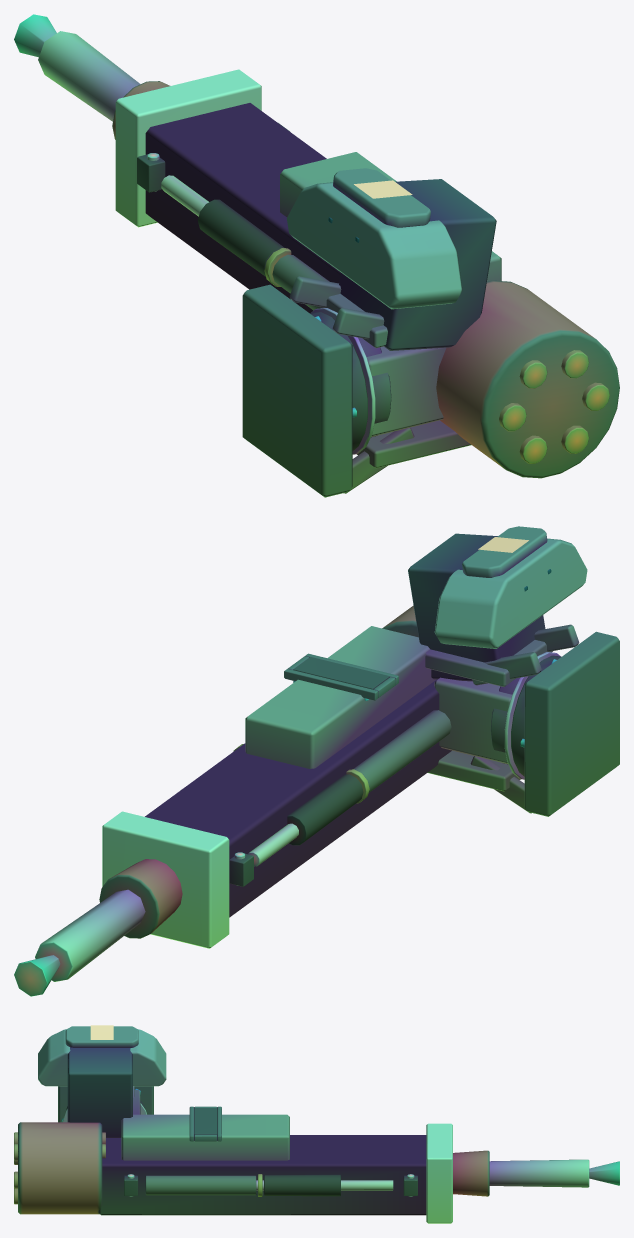
File: arm_pb09.glb
3 renders of one model, top to bottom at view 1: azimuth 30°, elevation 25°; view 2: azimuth 150°, elevation 25°; view 3: azimuth 270°, elevation 25°, orthographic. The views are drawn at different scales.
Parts seen in each view (by area): view 1: Body__dark, Body__armor_dark, Body__gunmetal, Body__armor, Body__armor_sub, Body__chrome, Body__hazard, Body__brass, Body__rubber, Body__decal; view 2: Body__dark, Body__armor, Body__gunmetal, Body__hazard, Body__armor_sub, Body__chrome, Body__rubber; view 3: Body__dark, Body__armor, Body__armor_dark, Body__gunmetal, Body__chrome, Body__hazard, Body__rubber, Body__armor_sub, Body__brass, Body__decal.
Boxes of the visible parts, x1,y1,x2,y2 form: Body__dark: [137, 103, 496, 450]; Body__armor_dark: [436, 280, 619, 478]; Body__gunmetal: [112, 81, 391, 497]; Body__armor: [280, 152, 501, 436]; Body__armor_sub: [289, 168, 471, 493]; Body__chrome: [14, 14, 375, 454]; Body__hazard: [115, 69, 261, 227]; Body__brass: [264, 248, 609, 463]; Body__rubber: [198, 199, 284, 276]; Body__decal: [354, 180, 412, 198]; Body__dark: [145, 533, 561, 917]; Body__armor: [245, 538, 587, 768]; Body__gunmetal: [99, 631, 619, 938]; Body__hazard: [102, 811, 229, 948]; Body__armor_sub: [425, 526, 579, 813]; Body__chrome: [14, 652, 560, 996]; Body__rubber: [287, 774, 363, 845]; Body__dark: [66, 1047, 426, 1215]; Body__armor: [38, 1029, 289, 1160]; Body__armor_dark: [18, 1122, 102, 1214]; Body__gunmetal: [58, 1086, 489, 1196]; Body__chrome: [61, 1088, 619, 1196]; Body__hazard: [426, 1123, 452, 1223]; Body__rubber: [264, 1174, 340, 1196]; Body__armor_sub: [65, 1026, 140, 1114]; Body__brass: [14, 1132, 262, 1204]; Body__decal: [90, 1025, 113, 1039].
Size of the model in its own units: 0.9515 by 0.9269 by 3.16.
